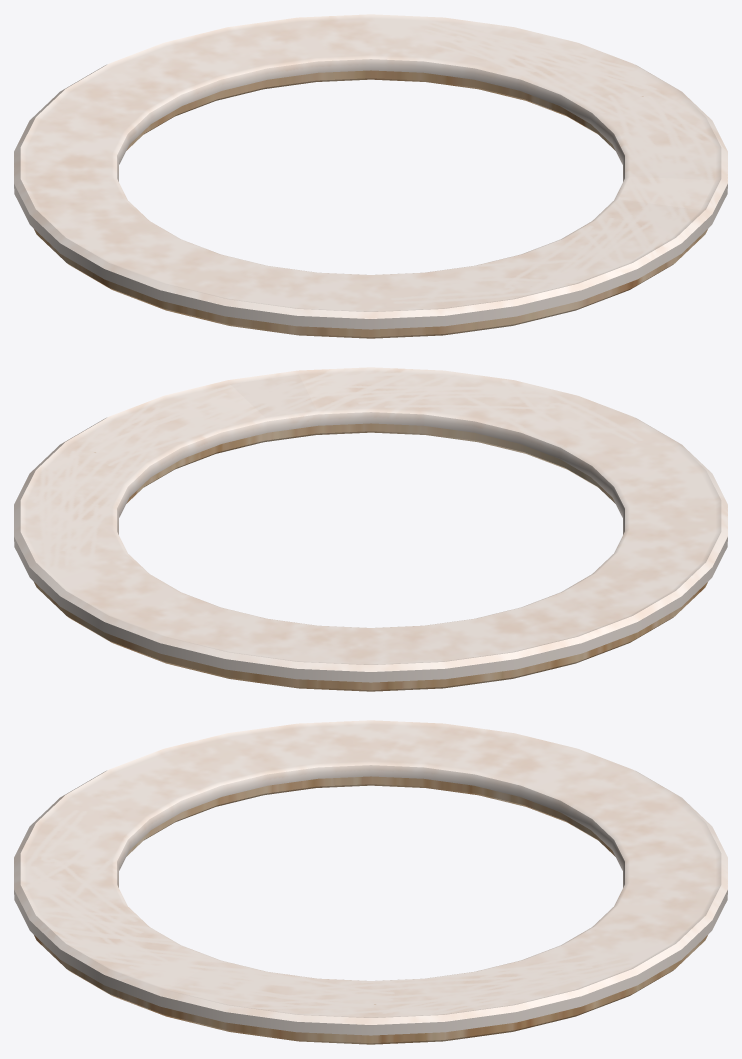
The model's file is Stage.fbx.
3 views of the same model, one above another, from view 1: azimuth 30°, elevation 25°; view 2: azimuth 150°, elevation 25°; view 3: azimuth 270°, elevation 25° (orthographic).
Visible parts, largest first — view 1: field; view 2: field; view 3: field.
Part boxes in pixels (bbox=[...]): field: bbox=[14, 14, 727, 338]; field: bbox=[14, 367, 727, 691]; field: bbox=[14, 720, 727, 1044].
Bounding box in the file's own units: 1297 × 56.16 × 1289.
